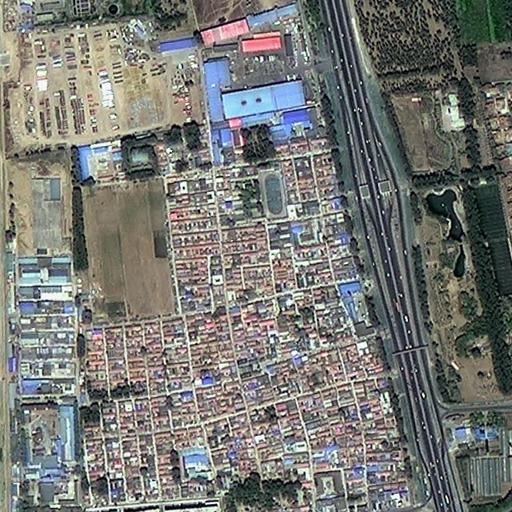school: (231, 166, 291, 221)
